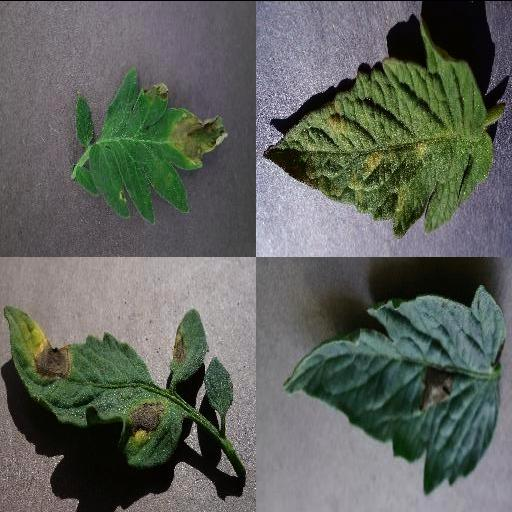Early Blight: (280, 282, 510, 494), (2, 304, 186, 466)
Late Blight: (74, 66, 230, 220)
Leaf Mold: (262, 21, 496, 236)
